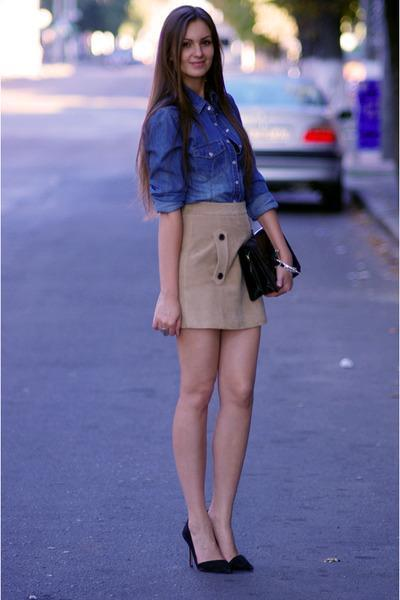bag: (237, 228, 299, 301)
shirt: (139, 90, 298, 226)
shoe: (182, 520, 251, 573)
skirt: (174, 201, 263, 328)
